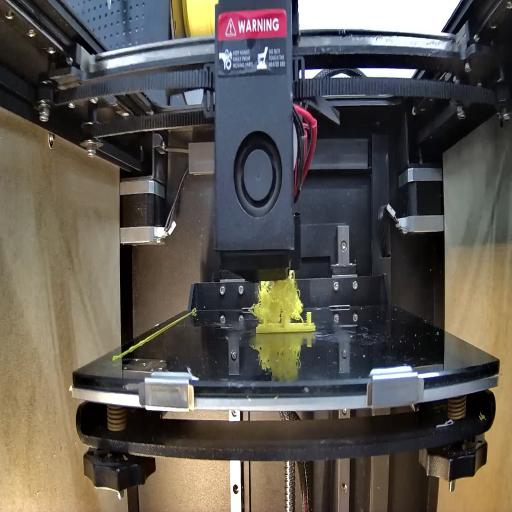spaghetti: (253, 272, 304, 324)
